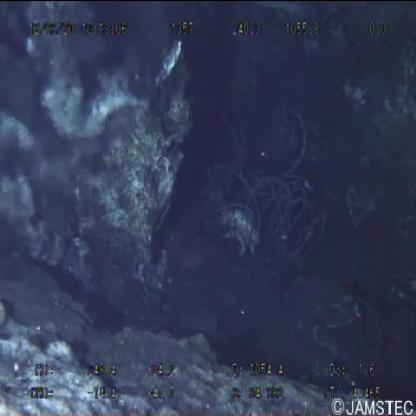Rác: (45, 37, 192, 260)
